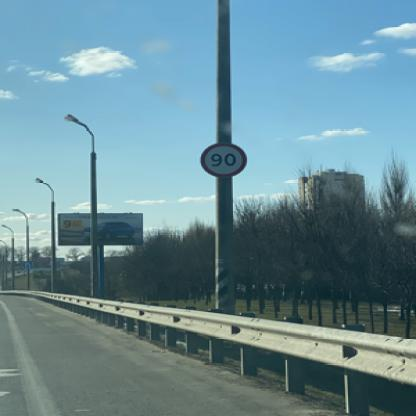speedlimit: (197, 141, 244, 176)
